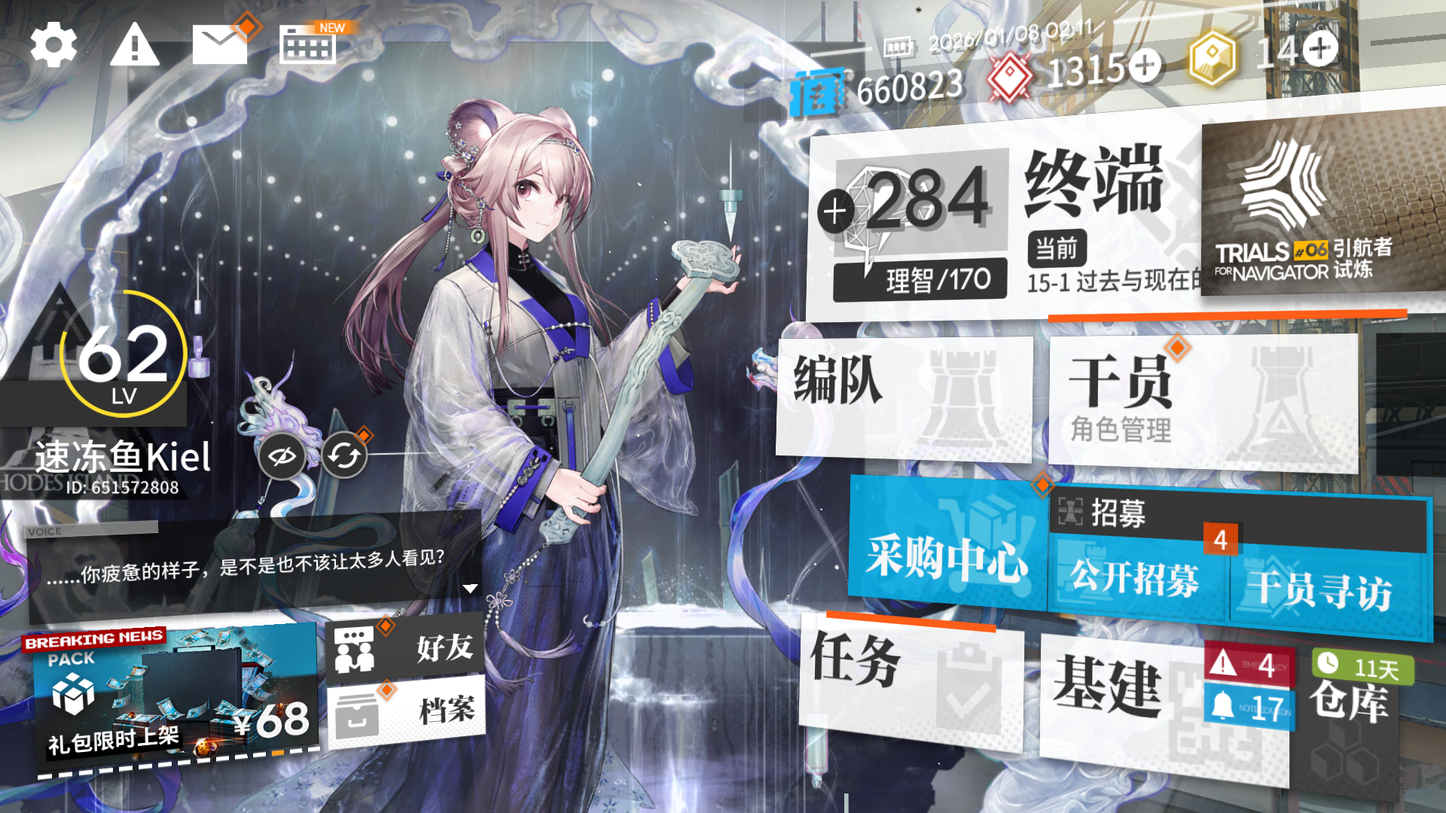home_button: (1009, 133, 1191, 244)
infrastructure_button: (1051, 637, 1275, 766)
